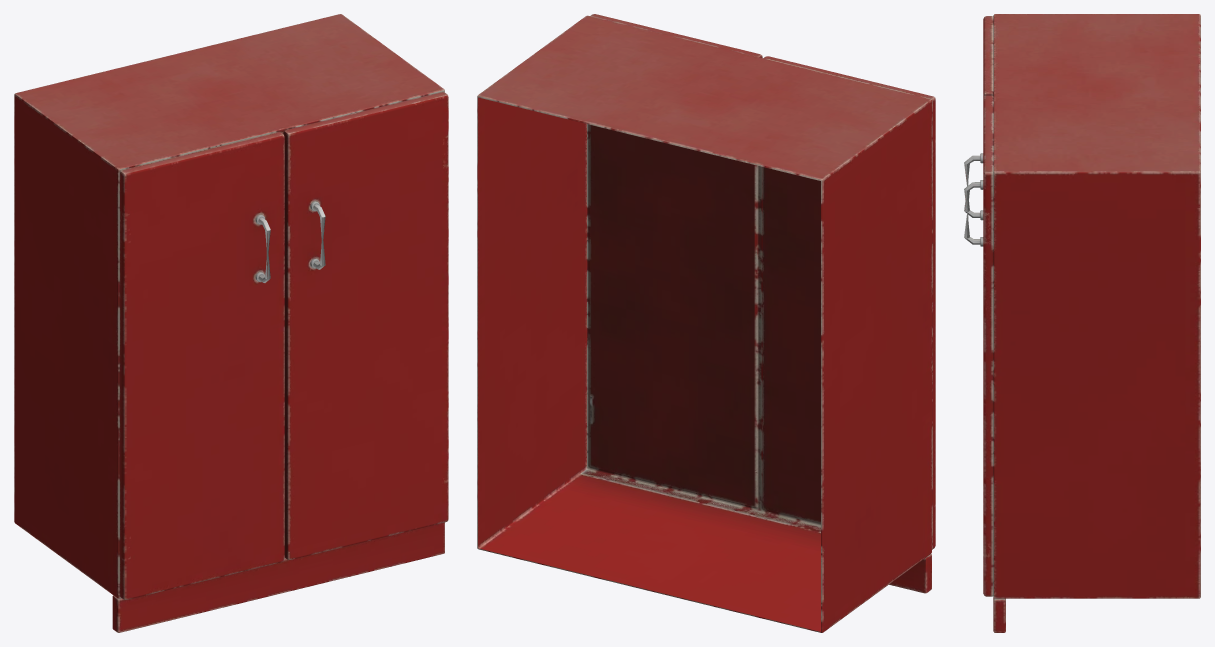
Rendered from kit_upper_60_red.glb.
The picture shows the model from 3 angles, left to right: view 1: azimuth 30°, elevation 25°; view 2: azimuth 150°, elevation 25°; view 3: azimuth 270°, elevation 25°; orthographic projection. The views are drawn at different scales.
Visible parts, largest first — view 1: kit_upper_60_red; view 2: kit_upper_60_red; view 3: kit_upper_60_red.
Boxes of the visible parts, x1,y1,x2,y2 form: kit_upper_60_red: [14, 14, 448, 632]; kit_upper_60_red: [477, 14, 935, 632]; kit_upper_60_red: [964, 14, 1200, 632].
Bounding box in the file's own units: 0.598 × 0.81 × 0.3768.
Materials: 1 (1 with a texture image).
